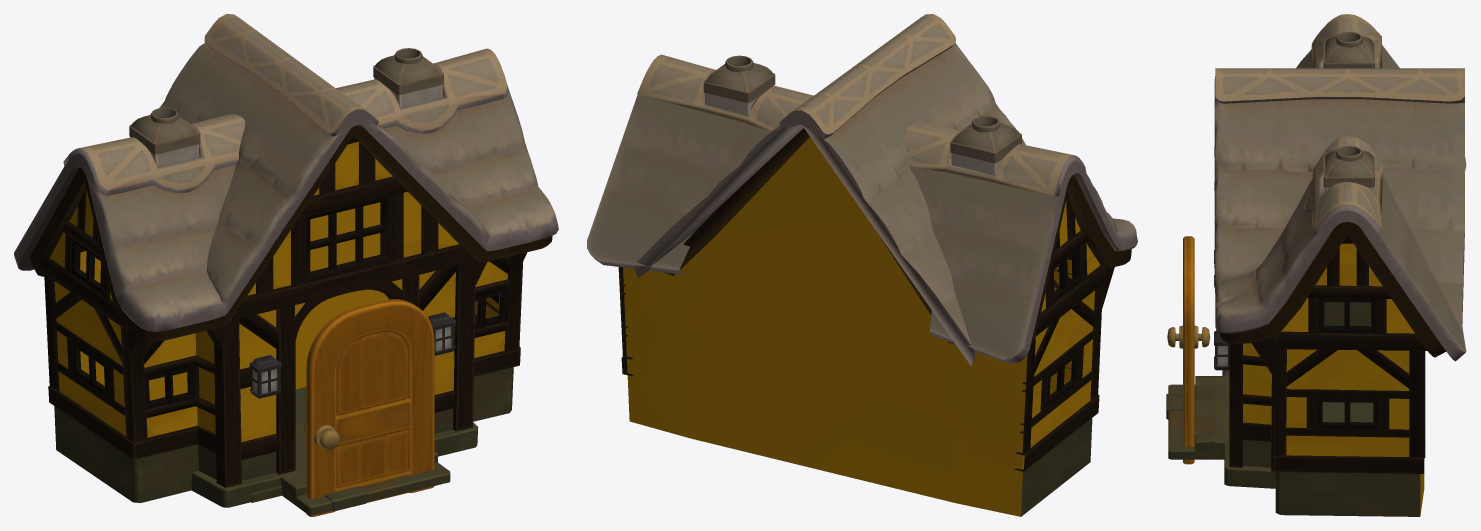
Rendered from house-chalet-yellow.glb.
The picture shows the model from 3 angles, left to right: view 1: azimuth 30°, elevation 25°; view 2: azimuth 150°, elevation 25°; view 3: azimuth 270°, elevation 25°; orthographic projection. The views are drawn at different scales.
Visible parts, largest first — view 1: HouseWallPA04WoodframeE_node10, HouseWallPA04WoodframeE_node18, HouseRoofPA04ThatchedE_node6, HouseRoofPA04ThatchedE_node7, HouseDoorStandardBR_node3, HouseRoofPA04ThatchedE_node3, HouseWallPA04WoodframeE_node14; view 2: HouseWallPA04WoodframeE_node10, HouseRoofPA04ThatchedE_node6, HouseRoofPA04ThatchedE_node7, HouseWallPA04WoodframeE_node18, HouseRoofPA04ThatchedE_node3; view 3: HouseRoofPA04ThatchedE_node6, HouseWallPA04WoodframeE_node10, HouseWallPA04WoodframeE_node18, HouseRoofPA04ThatchedE_node7, HouseRoofPA04ThatchedE_node3, HouseDoorStandardBR_node3, HouseWallPA04WoodframeE_node14.
Boxes of the visible parts, bbox=[...] form: HouseWallPA04WoodframeE_node10: bbox=[29, 125, 552, 515]; HouseWallPA04WoodframeE_node18: bbox=[39, 135, 527, 487]; HouseRoofPA04ThatchedE_node6: bbox=[63, 14, 508, 312]; HouseRoofPA04ThatchedE_node7: bbox=[14, 86, 558, 331]; HouseDoorStandardBR_node3: bbox=[303, 299, 434, 516]; HouseRoofPA04ThatchedE_node3: bbox=[129, 48, 443, 167]; HouseWallPA04WoodframeE_node14: bbox=[249, 312, 455, 398]; HouseWallPA04WoodframeE_node10: bbox=[623, 128, 1131, 516]; HouseRoofPA04ThatchedE_node6: bbox=[634, 14, 1086, 365]; HouseRoofPA04ThatchedE_node7: bbox=[587, 94, 1137, 363]; HouseWallPA04WoodframeE_node18: bbox=[618, 193, 1114, 471]; HouseRoofPA04ThatchedE_node3: bbox=[703, 55, 1021, 174]; HouseRoofPA04ThatchedE_node6: bbox=[1214, 14, 1464, 329]; HouseWallPA04WoodframeE_node10: bbox=[1166, 222, 1445, 516]; HouseWallPA04WoodframeE_node18: bbox=[1229, 235, 1426, 473]; HouseRoofPA04ThatchedE_node7: bbox=[1215, 45, 1466, 361]; HouseRoofPA04ThatchedE_node3: bbox=[1323, 31, 1374, 194]; HouseDoorStandardBR_node3: bbox=[1167, 236, 1210, 464]; HouseWallPA04WoodframeE_node14: bbox=[1214, 250, 1229, 370].
Size of the model in its own units: 50.03 by 42.06 by 31.31.
6 materials, 6 textured.
